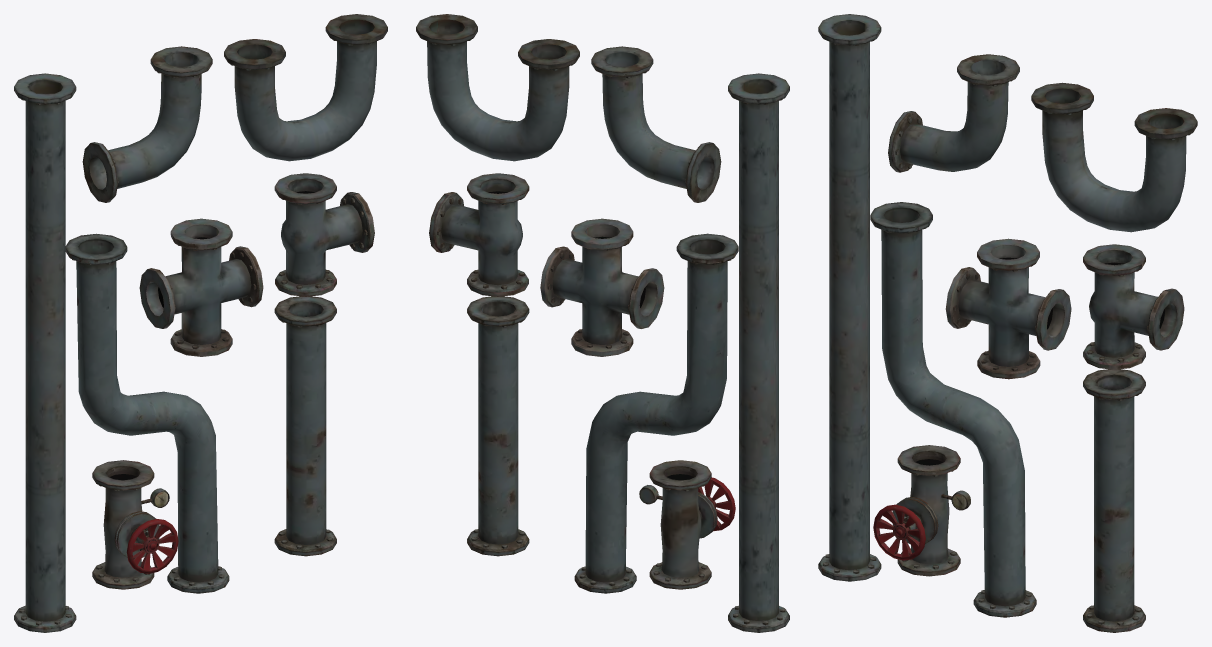
The model's file is modular_industrial_pipes_01.glb.
3 views of the same model, side by side, from view 1: azimuth 30°, elevation 25°; view 2: azimuth 150°, elevation 25°; view 3: azimuth 330°, elevation 25° (orthographic).
Parts seen in each view (by area): view 1: modular_industrial_pipes_01_pipe02, modular_industrial_pipes_01_pipe03, modular_industrial_pipes_01_pipe05, modular_industrial_pipes_01_pipe01, modular_industrial_pipes_01_pipe07, modular_industrial_pipes_01_pipe04, modular_industrial_pipes_01_pipe06, modular_industrial_pipes_01_pipe08; view 2: modular_industrial_pipes_01_pipe02, modular_industrial_pipes_01_pipe03, modular_industrial_pipes_01_pipe05, modular_industrial_pipes_01_pipe01, modular_industrial_pipes_01_pipe07, modular_industrial_pipes_01_pipe04, modular_industrial_pipes_01_pipe06, modular_industrial_pipes_01_pipe08; view 3: modular_industrial_pipes_01_pipe02, modular_industrial_pipes_01_pipe03, modular_industrial_pipes_01_pipe05, modular_industrial_pipes_01_pipe01, modular_industrial_pipes_01_pipe07, modular_industrial_pipes_01_pipe06, modular_industrial_pipes_01_pipe04, modular_industrial_pipes_01_pipe08.
Part boxes in pixels (bbox=[...]): modular_industrial_pipes_01_pipe02: bbox=[14, 73, 76, 632]; modular_industrial_pipes_01_pipe03: bbox=[65, 233, 229, 593]; modular_industrial_pipes_01_pipe05: bbox=[224, 14, 387, 161]; modular_industrial_pipes_01_pipe01: bbox=[274, 296, 336, 556]; modular_industrial_pipes_01_pipe07: bbox=[139, 218, 263, 356]; modular_industrial_pipes_01_pipe04: bbox=[82, 46, 212, 202]; modular_industrial_pipes_01_pipe06: bbox=[274, 173, 374, 296]; modular_industrial_pipes_01_pipe08: bbox=[92, 460, 178, 589]; modular_industrial_pipes_01_pipe02: bbox=[728, 73, 789, 632]; modular_industrial_pipes_01_pipe03: bbox=[574, 233, 738, 593]; modular_industrial_pipes_01_pipe05: bbox=[416, 14, 579, 161]; modular_industrial_pipes_01_pipe01: bbox=[467, 296, 529, 556]; modular_industrial_pipes_01_pipe07: bbox=[540, 218, 664, 356]; modular_industrial_pipes_01_pipe04: bbox=[591, 46, 721, 202]; modular_industrial_pipes_01_pipe06: bbox=[429, 173, 529, 296]; modular_industrial_pipes_01_pipe08: bbox=[639, 460, 735, 589]; modular_industrial_pipes_01_pipe02: bbox=[818, 14, 881, 581]; modular_industrial_pipes_01_pipe03: bbox=[870, 202, 1036, 617]; modular_industrial_pipes_01_pipe05: bbox=[1031, 82, 1197, 232]; modular_industrial_pipes_01_pipe01: bbox=[1083, 369, 1145, 632]; modular_industrial_pipes_01_pipe07: bbox=[945, 238, 1071, 379]; modular_industrial_pipes_01_pipe06: bbox=[1083, 244, 1184, 369]; modular_industrial_pipes_01_pipe04: bbox=[888, 54, 1019, 172]; modular_industrial_pipes_01_pipe08: bbox=[873, 445, 970, 576].
Size of the model in its own units: 1.4 by 1.95 by 0.3073.
2 materials, 2 textured.
